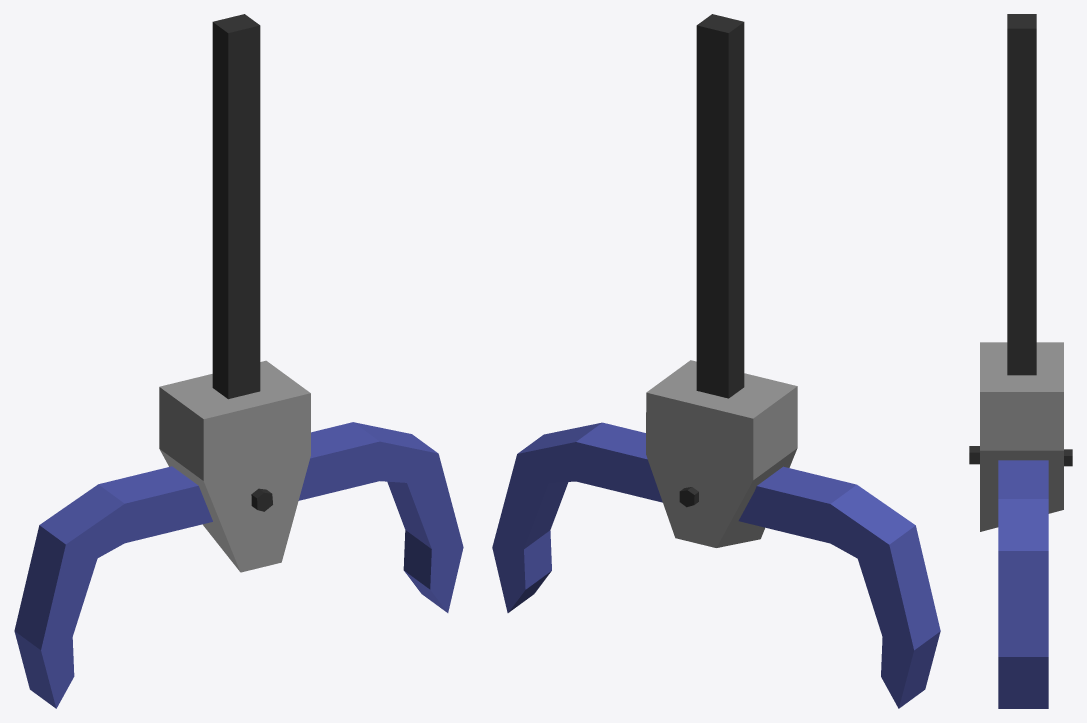
The model's file is Robot Arm.fbx.
3 renders of one model, left to right at view 1: azimuth 30°, elevation 25°; view 2: azimuth 150°, elevation 25°; view 3: azimuth 270°, elevation 25°, orthographic. The views are drawn at different scales.
Parts seen in each view (by area): view 1: Cube, Cube.003, Cube.001, Cube.002; view 2: Cube, Cube.003, Cube.001, Cube.002; view 3: Cube.002, Cube, Cube.003.
Boxes of the visible parts, x1,y1,x2,y2 form: Cube: (159, 360, 310, 572); Cube.003: (212, 14, 260, 399); Cube.001: (14, 466, 212, 708); Cube.002: (298, 422, 463, 612); Cube: (646, 360, 797, 547); Cube.003: (696, 14, 744, 398); Cube.001: (738, 466, 940, 708); Cube.002: (492, 422, 662, 612); Cube.002: (998, 460, 1048, 708); Cube: (969, 342, 1072, 531); Cube.003: (1007, 14, 1036, 375).
Size of the model in its own units: 307 by 437 by 68.93.
